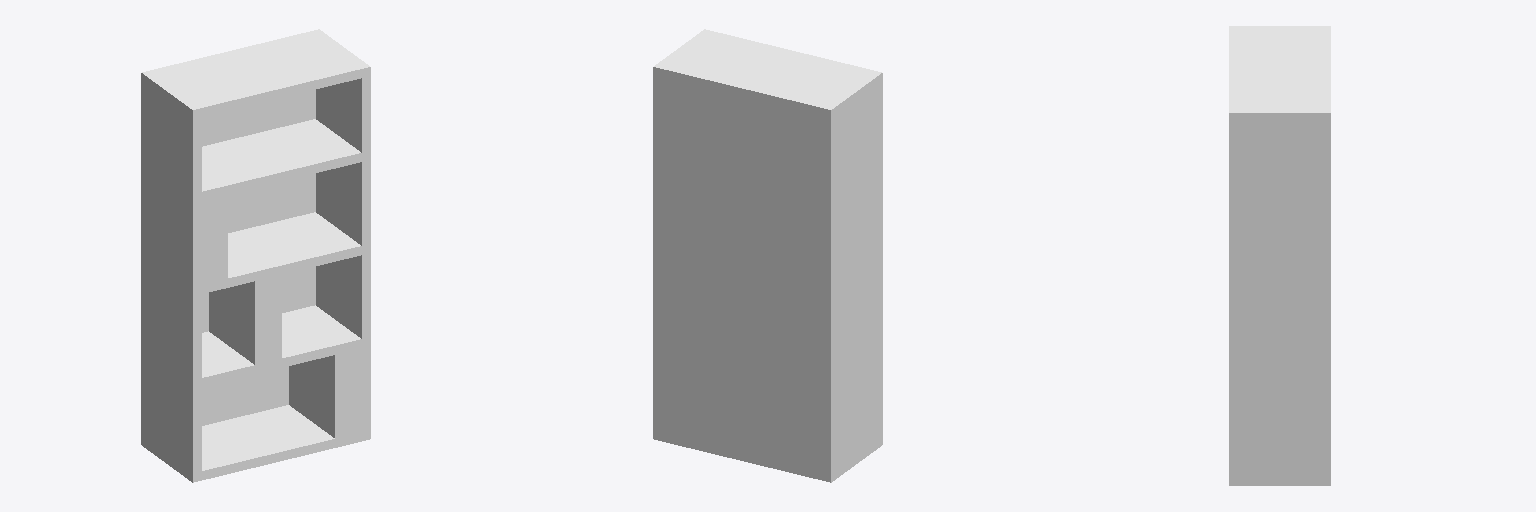
File: bookcase4.obj
3 renders of one model, left to right at view 1: azimuth 30°, elevation 25°; view 2: azimuth 150°, elevation 25°; view 3: azimuth 270°, elevation 25°, orthographic.
Visible parts, largest first — view 1: bookcase4; view 2: bookcase4; view 3: bookcase4.
Part boxes in pixels (bbox=[...]): bookcase4: bbox=[141, 29, 370, 482]; bookcase4: bbox=[653, 29, 882, 482]; bookcase4: bbox=[1229, 26, 1330, 485].
Bounding box in the file's own units: 20 × 40 × 10.